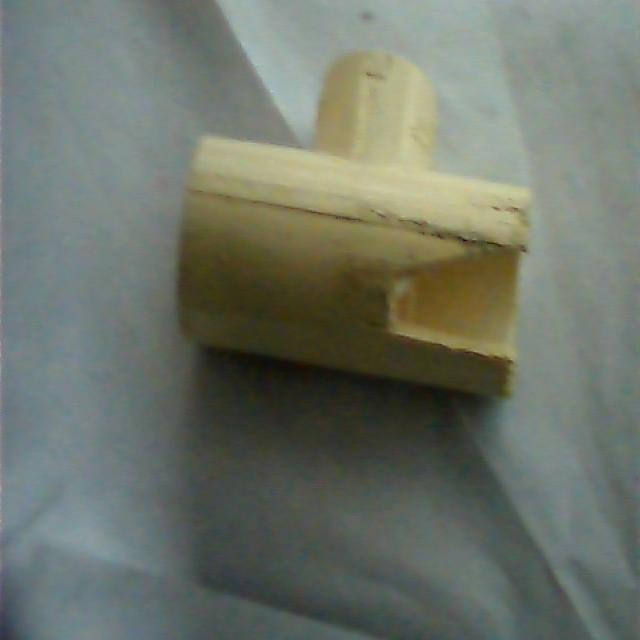Defective: (379, 178, 528, 400), (397, 252, 523, 361)
T Joint: (175, 51, 533, 400)
